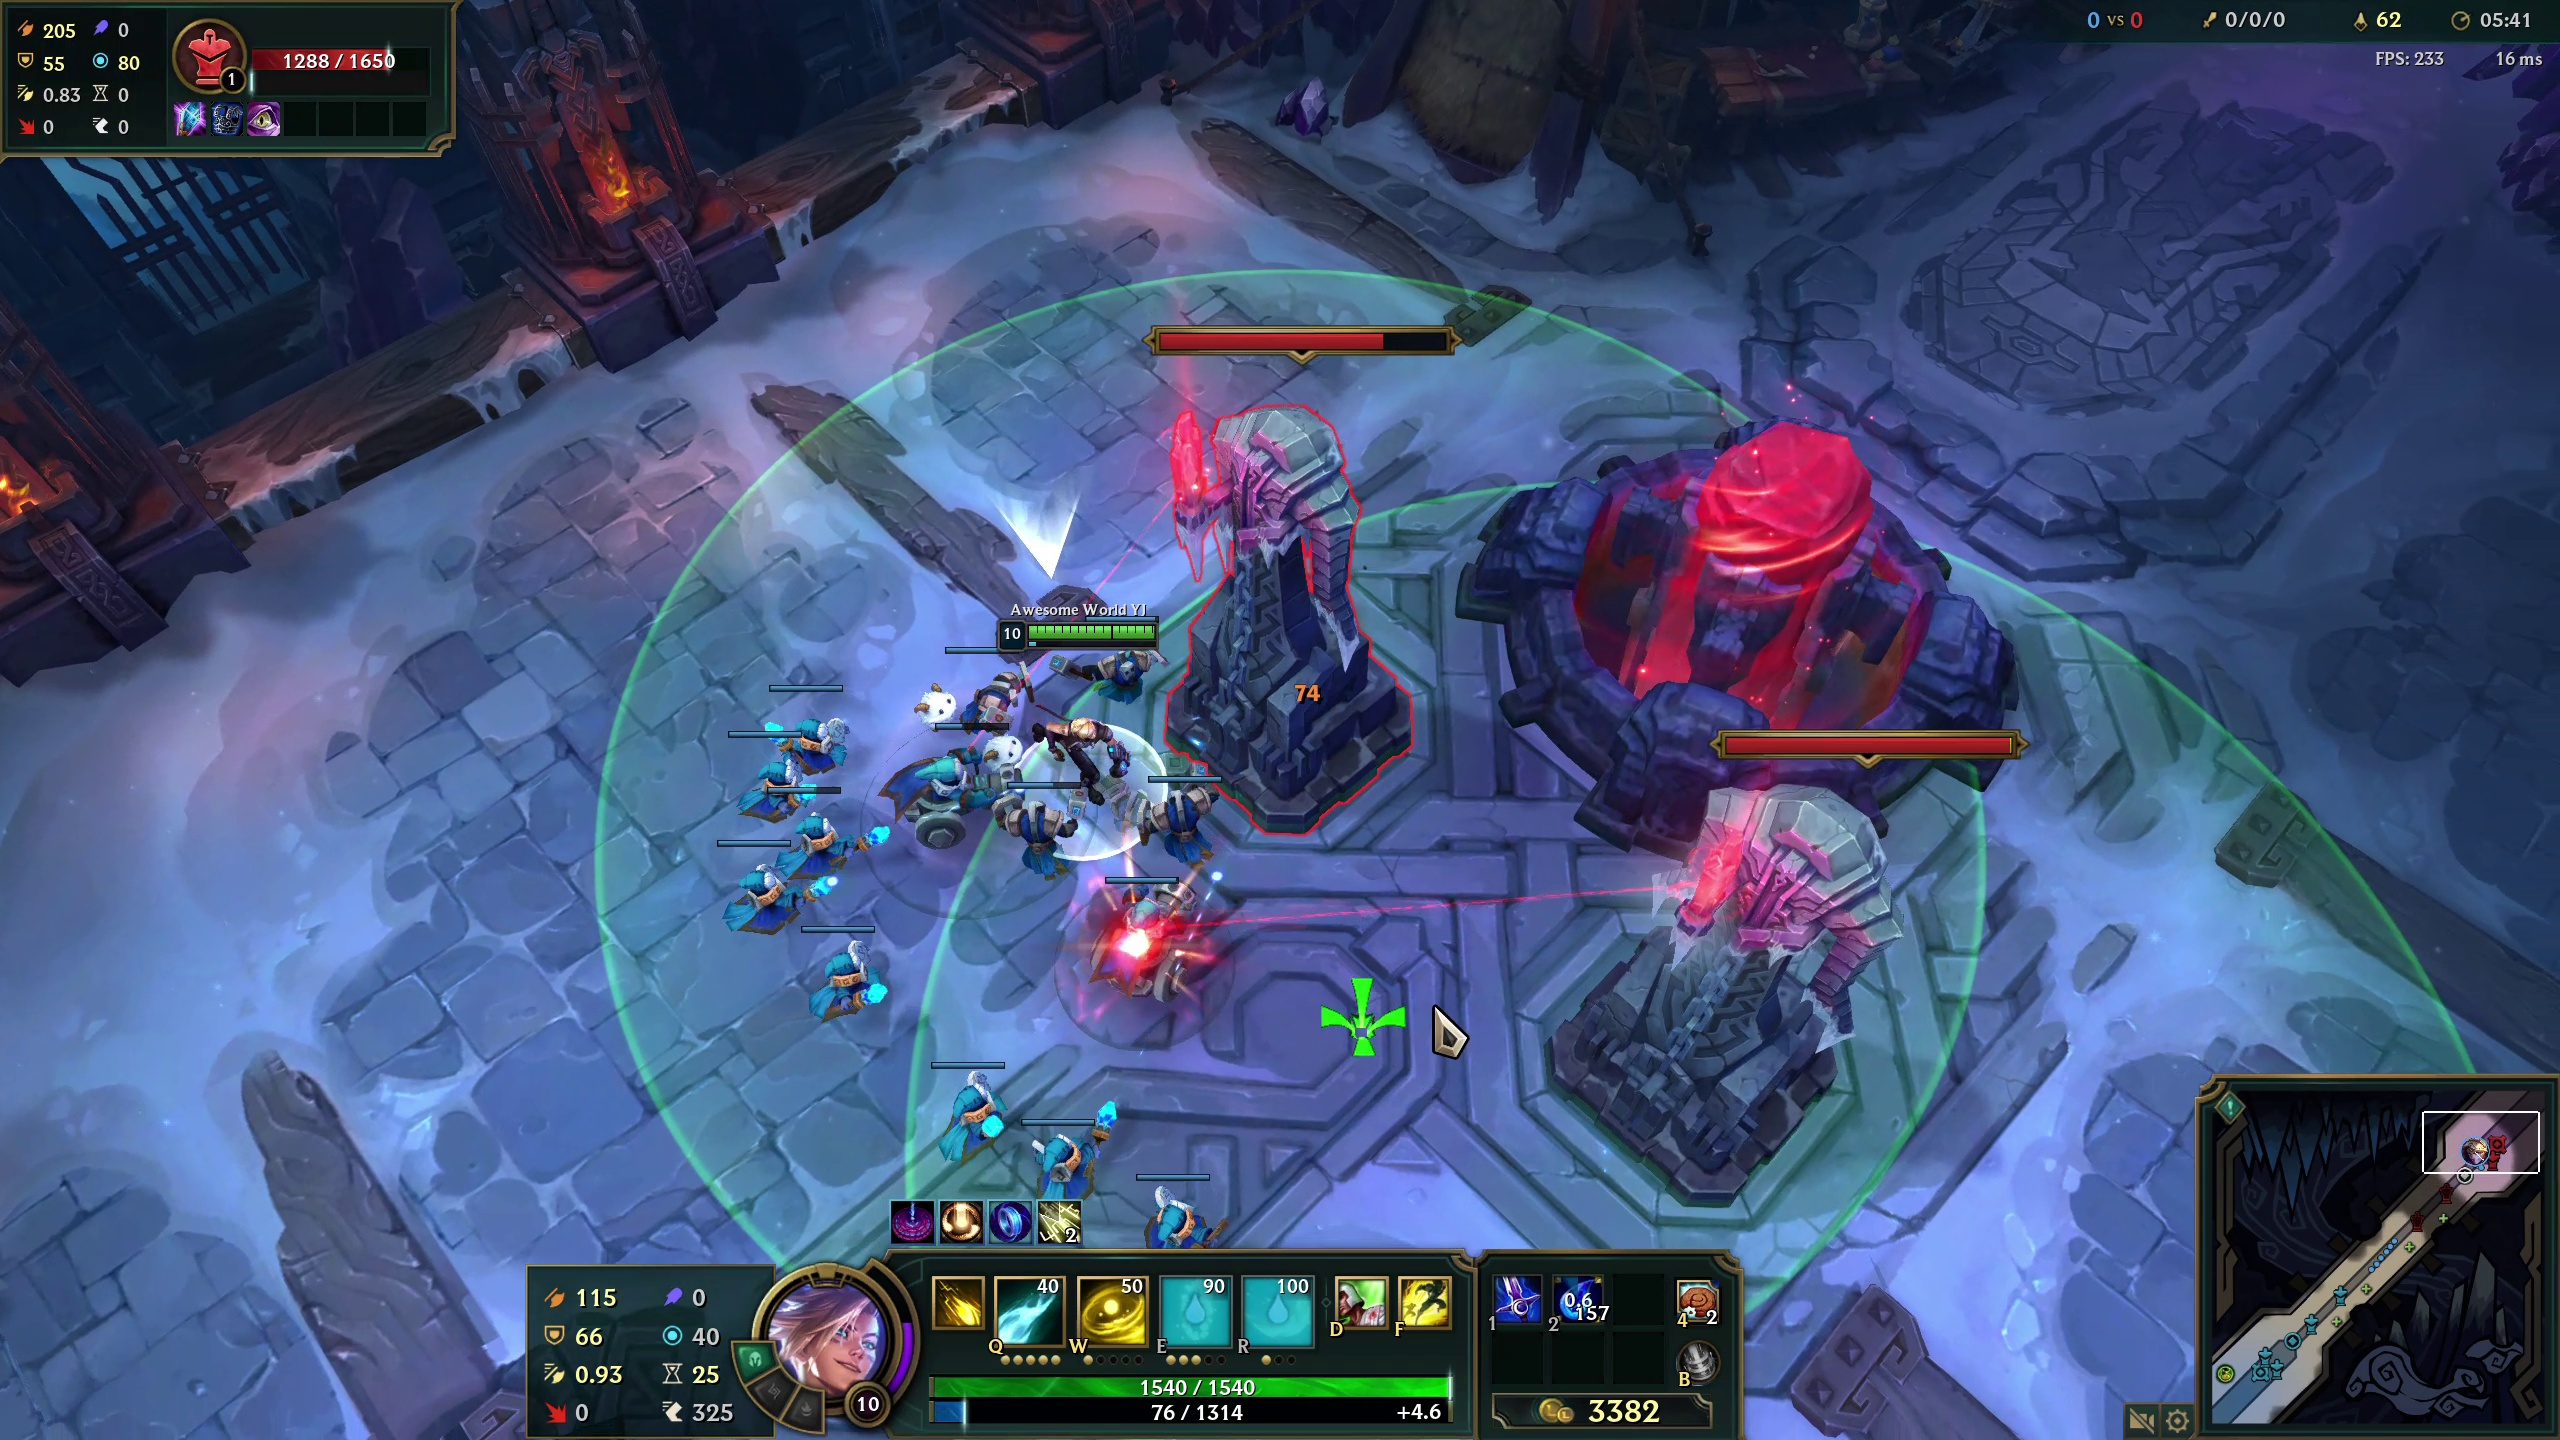EZ: (1036, 710, 1127, 791)
Inhibitor: (1572, 484, 1957, 781)
MyMinion: (770, 680, 867, 760), (913, 1057, 1009, 1136), (1122, 1160, 1218, 1240), (930, 636, 1027, 716), (724, 726, 823, 804), (775, 788, 872, 865), (705, 839, 802, 916), (796, 927, 893, 1004), (1013, 1115, 1109, 1192), (1000, 777, 1097, 855), (1143, 767, 1240, 844)
MySuperMinnion: (900, 749, 999, 826)
Turret: (1164, 424, 1407, 819), (1639, 774, 1811, 1164)
